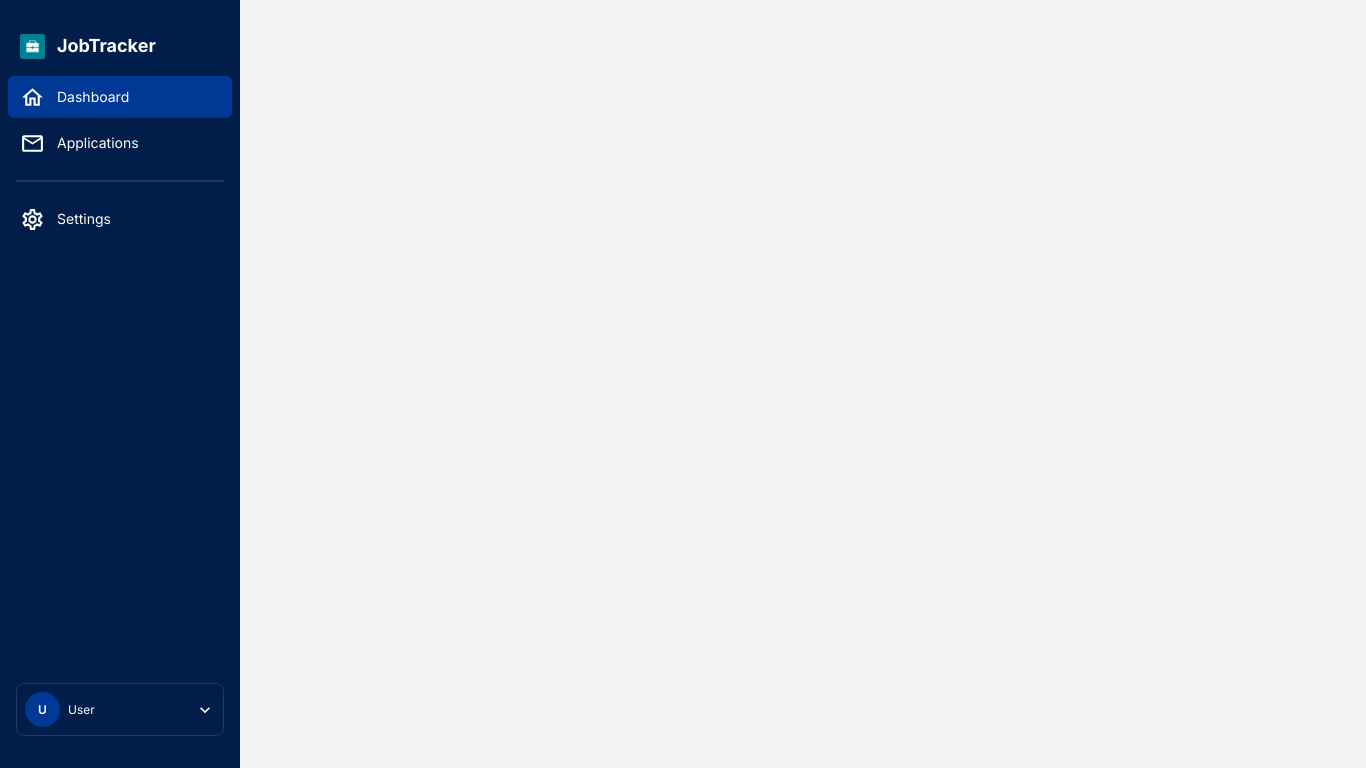
Test case: nav › navigates to applications
Click the link "Applications" at {"x": 79, "y": 143}, box [20, 130, 139, 156]
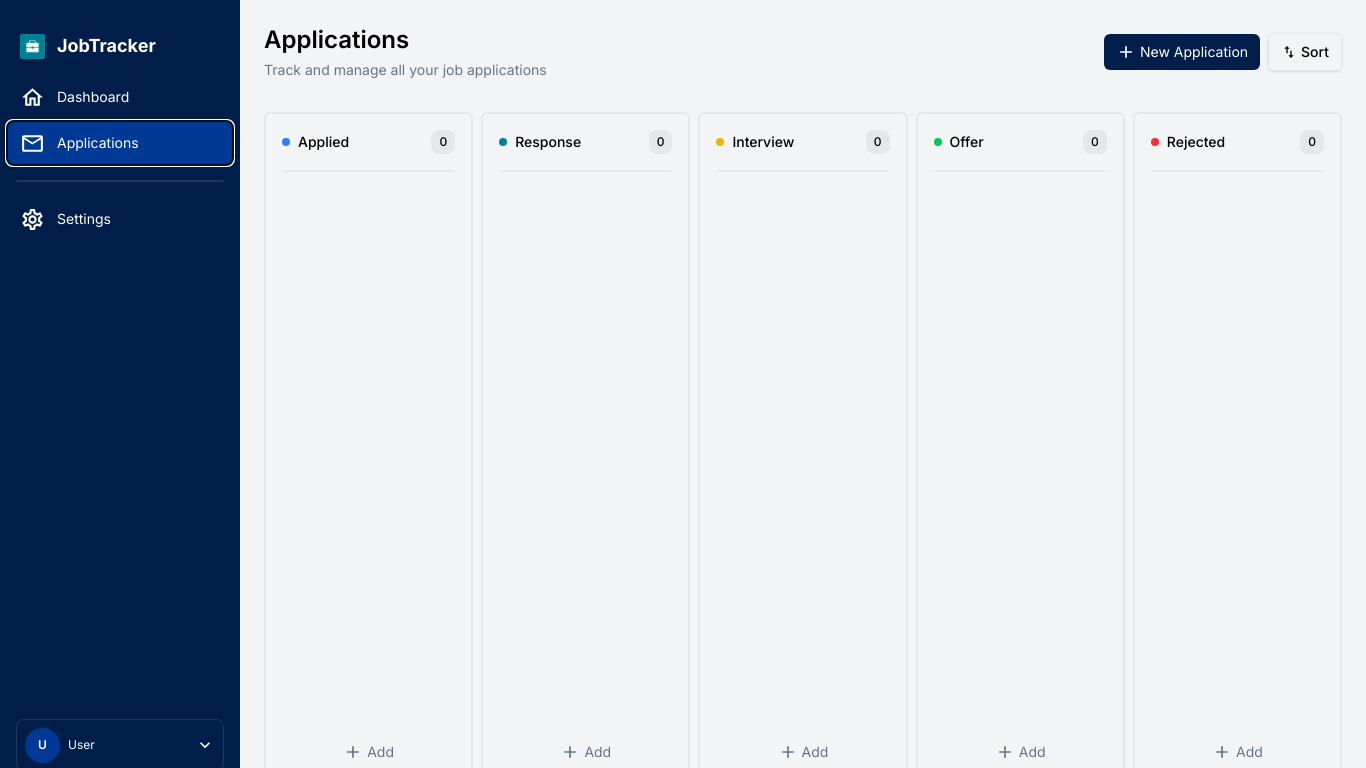
Check: the heading "Applications" is shown, box [264, 25, 409, 54]
